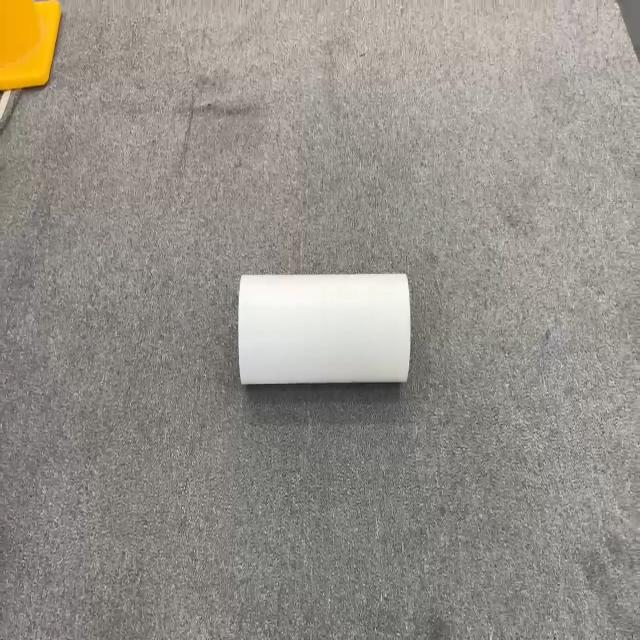coral: (237, 270, 411, 386)
